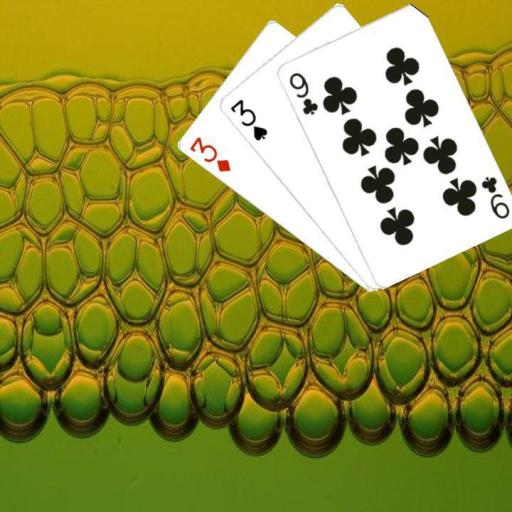card-corner: (226, 96, 269, 142), (186, 133, 232, 173), (285, 69, 319, 117), (477, 173, 511, 220)
